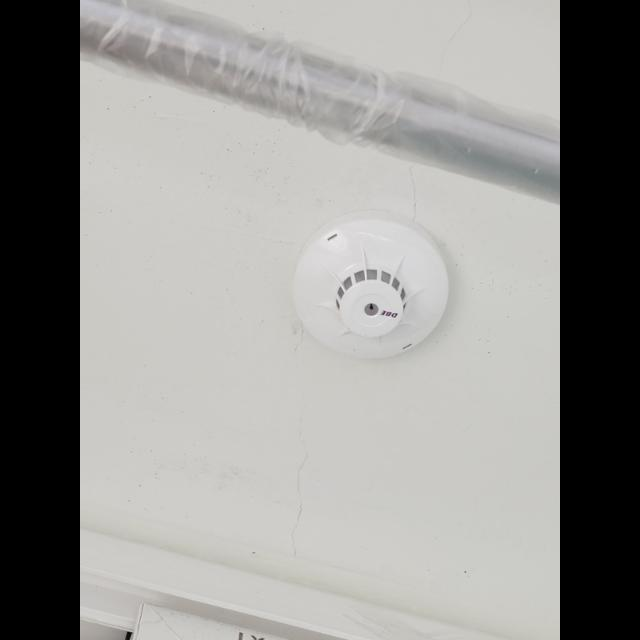Smoke-Detector: (293, 210, 451, 360)
